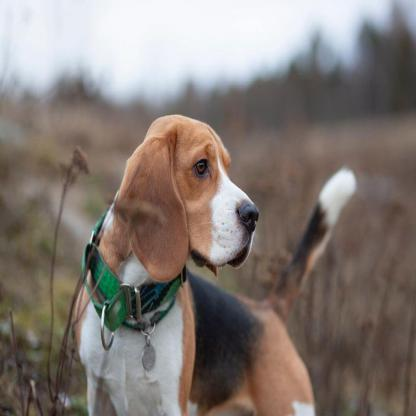Bigl: (72, 106, 362, 416)
